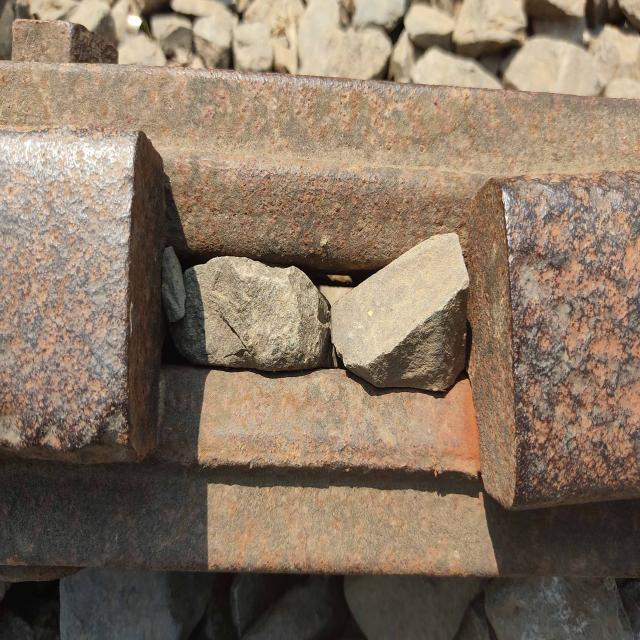railway_join_bar_defects_high: (8, 21, 553, 560)
